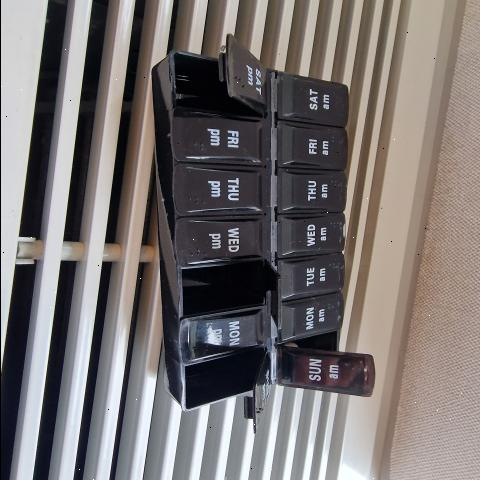Open: (174, 33, 264, 114), (181, 261, 281, 327), (182, 350, 264, 427), (274, 332, 372, 355)
